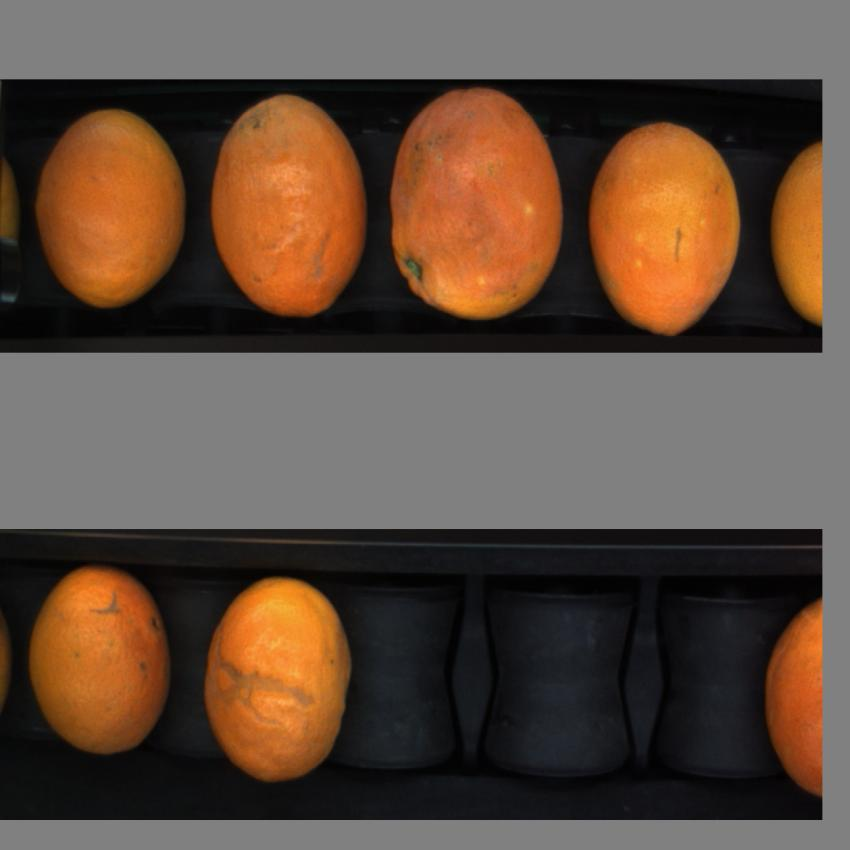Buen estado: (205, 89, 374, 319), (30, 102, 189, 314), (202, 572, 355, 783), (24, 566, 180, 764), (762, 588, 822, 806), (764, 135, 822, 327)
Mal estado: (386, 90, 566, 314), (586, 118, 746, 339)
